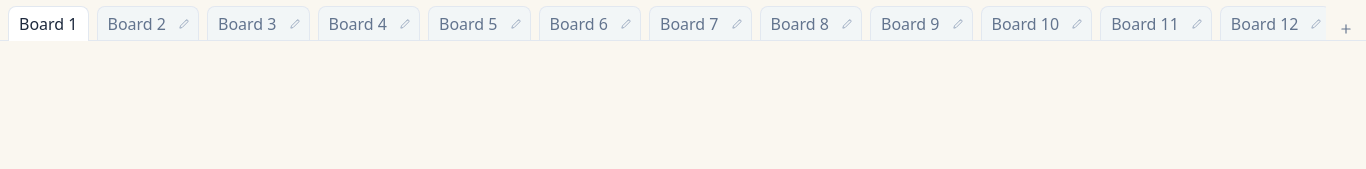
Test: BoardTabs › the add control refuses to switch when the hook falls back to the main board
Click the button with test id "board-tabs-add": (1346, 29) [1334, 17, 1358, 41]
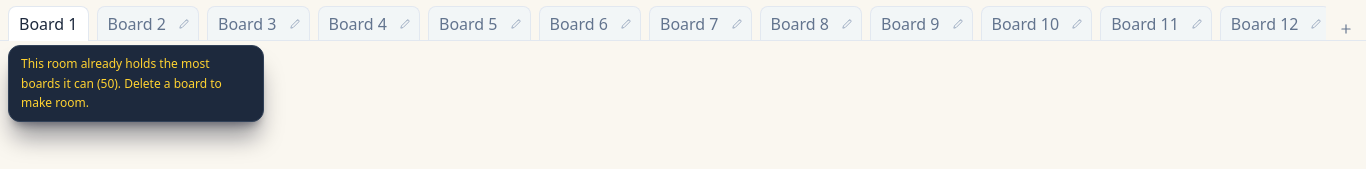
Check: the message with test id "board-tabs-add-refused" is shown, box [21, 54, 251, 113]
